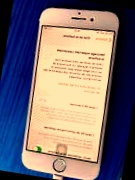iphone: (15, 4, 112, 180)
